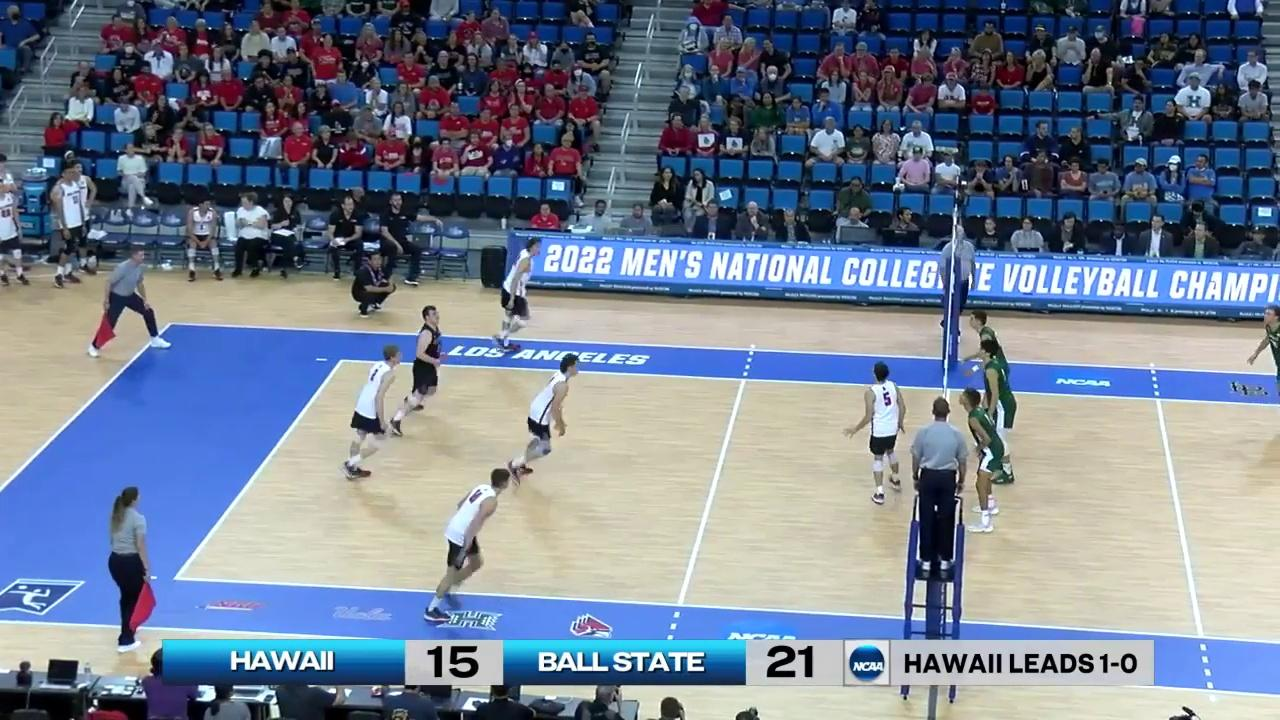player: (422, 470, 510, 624), (507, 358, 580, 486), (341, 346, 405, 481), (849, 362, 907, 506), (389, 306, 441, 436), (960, 389, 1006, 534), (977, 340, 1016, 484), (493, 239, 541, 351), (970, 311, 1009, 441), (1250, 301, 1280, 461)
refree: (87, 248, 173, 356), (912, 397, 963, 575), (106, 486, 159, 653), (941, 227, 976, 333)
